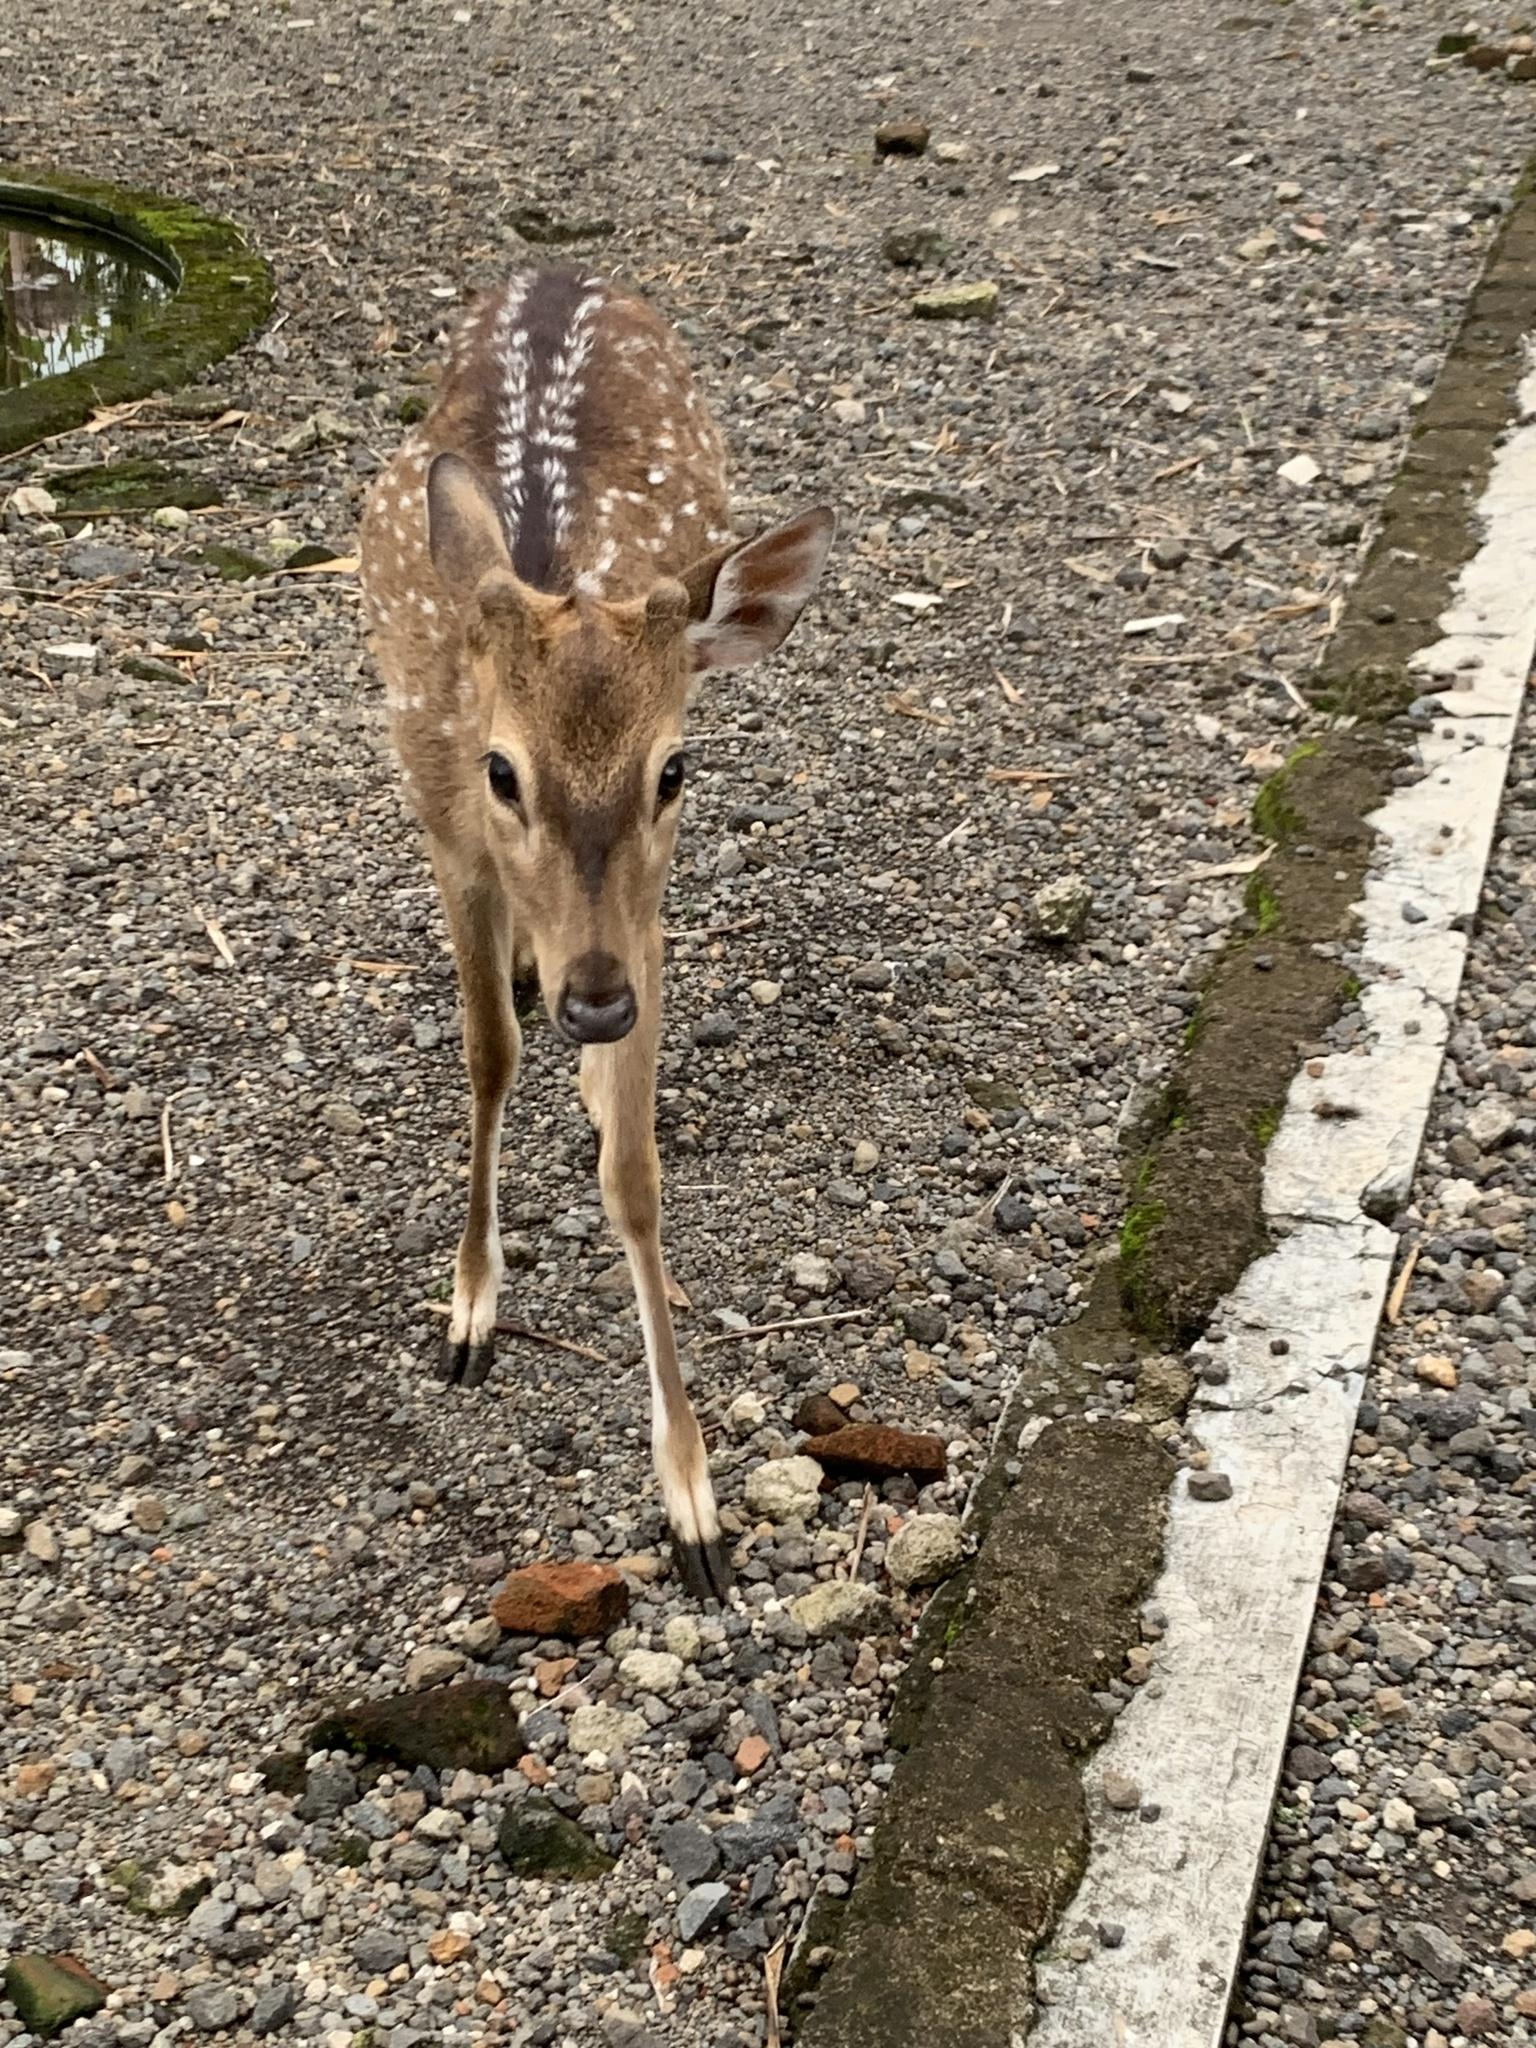Deer: (360, 266, 834, 1592)
